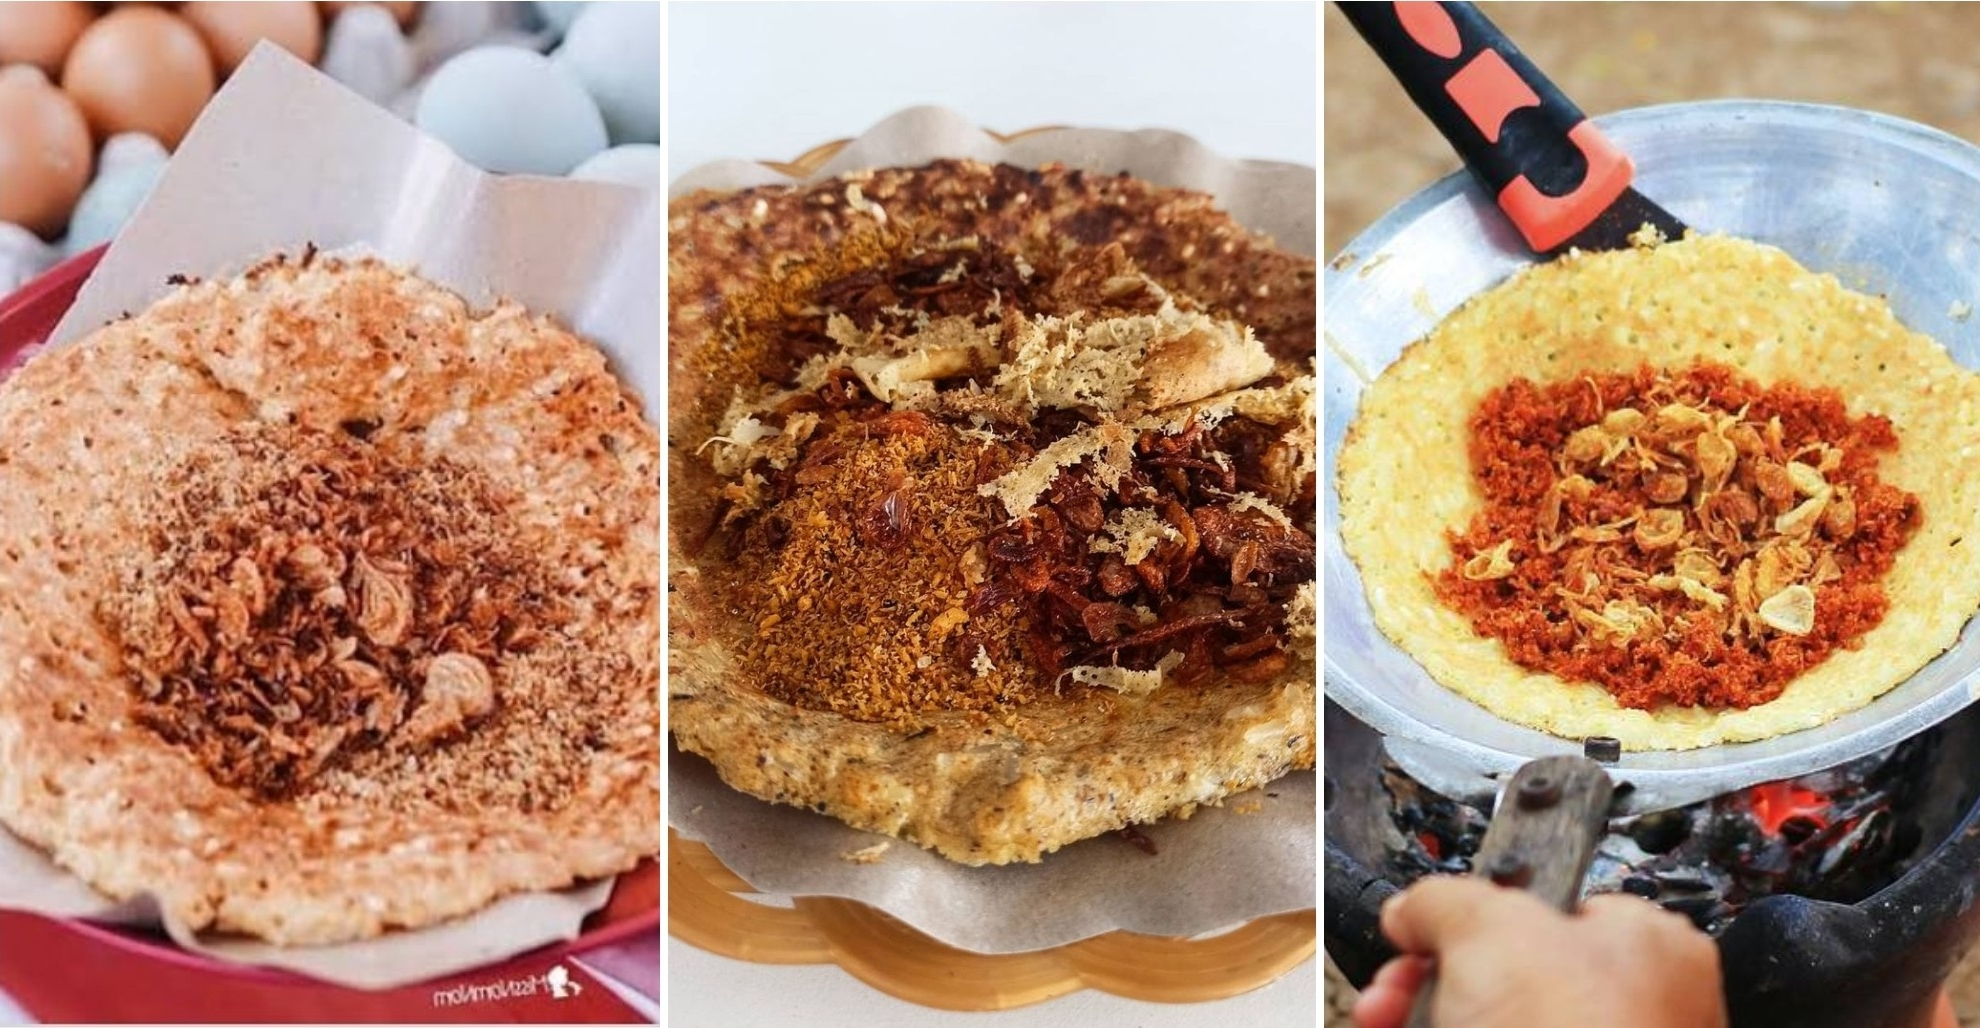kerak_telor: (5, 261, 667, 953), (676, 166, 1316, 871), (1340, 234, 1980, 753)
